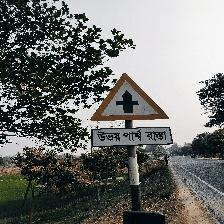Crossroad: (88, 68, 174, 148)
